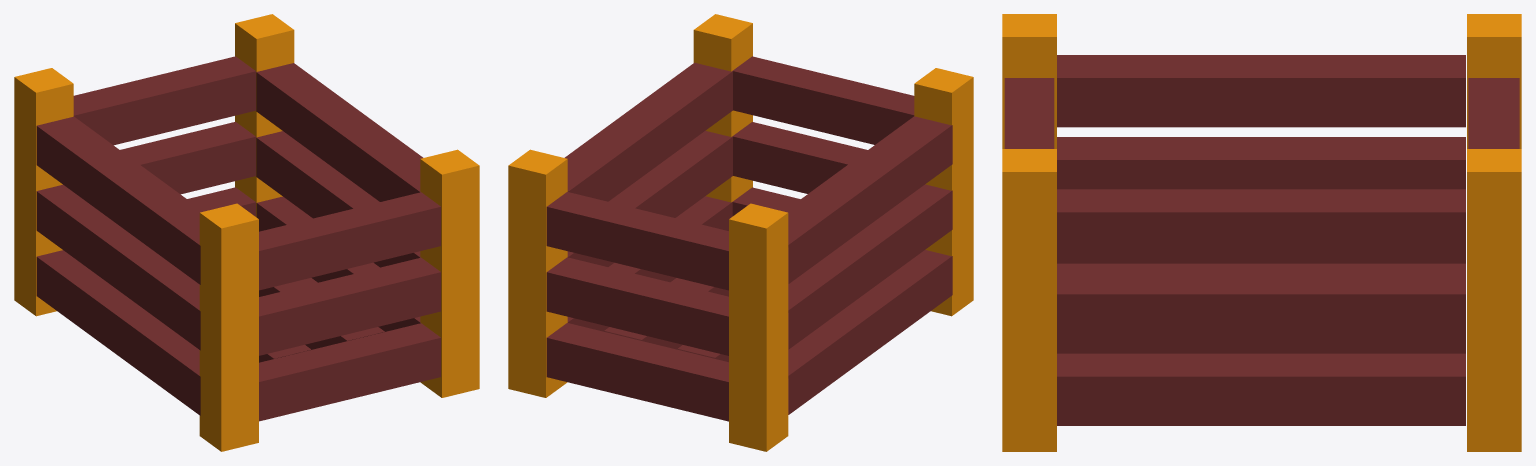
Rendered from wooden_basket_5.FBX.
The picture shows the model from 3 angles, left to right: view 1: azimuth 30°, elevation 25°; view 2: azimuth 150°, elevation 25°; view 3: azimuth 270°, elevation 25°; orthographic projection. The views are drawn at different scales.
Visible parts, largest first — view 1: wooden_basket_5; view 2: wooden_basket_5; view 3: wooden_basket_5.
Boxes of the visible parts, box(x1,y1,x2,y2) form: wooden_basket_5: box(14, 14, 479, 451); wooden_basket_5: box(508, 14, 973, 451); wooden_basket_5: box(1002, 14, 1521, 451).
Bounding box in the file's own units: 0.5674 × 0.4694 × 0.7884.
1 material, 1 textured.
